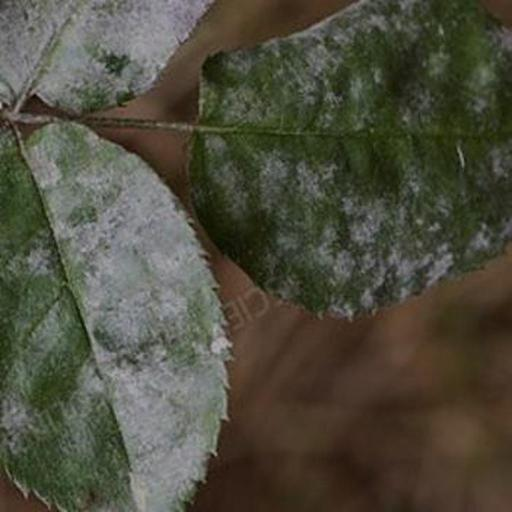powdery_mildew: (190, 0, 512, 317), (0, 104, 228, 512), (0, 0, 214, 112)
